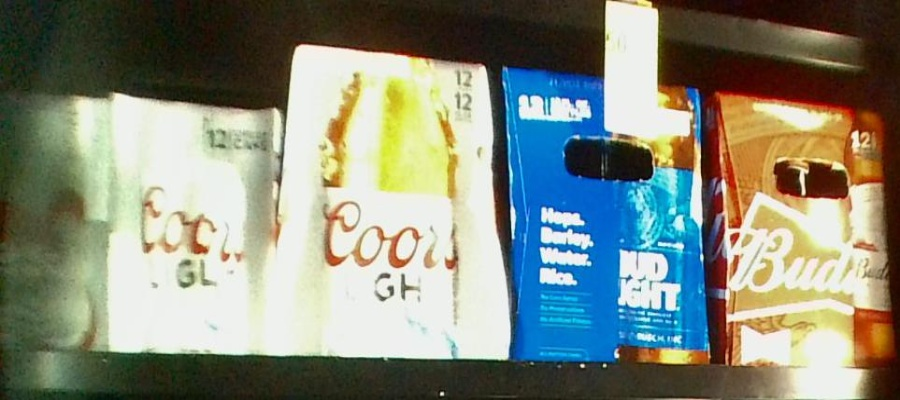bottle: (284, 47, 507, 360), (500, 66, 712, 368), (707, 92, 900, 370), (110, 91, 281, 350), (3, 92, 104, 348)
